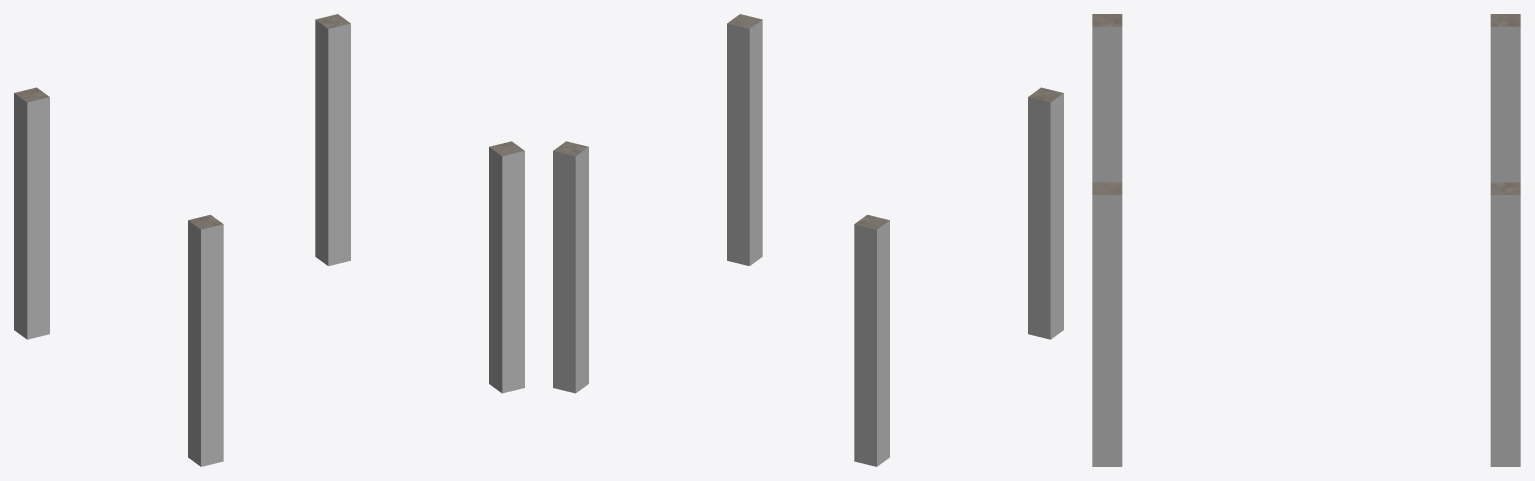
Rendered from roofMetal_poles.dae.
3 views of the same model, side by side, from view 1: azimuth 30°, elevation 25°; view 2: azimuth 150°, elevation 25°; view 3: azimuth 270°, elevation 25° (orthographic). The views are drawn at different scales.
Parts seen in each view (by area): view 1: roofMetal_poles; view 2: roofMetal_poles; view 3: roofMetal_poles.
Boxes of the visible parts, x1,y1,x2,y2 form: roofMetal_poles: [14, 14, 524, 466]; roofMetal_poles: [553, 14, 1063, 466]; roofMetal_poles: [1092, 14, 1520, 466].
Bounding box in the file's own units: 1 × 0.7 × 1.
